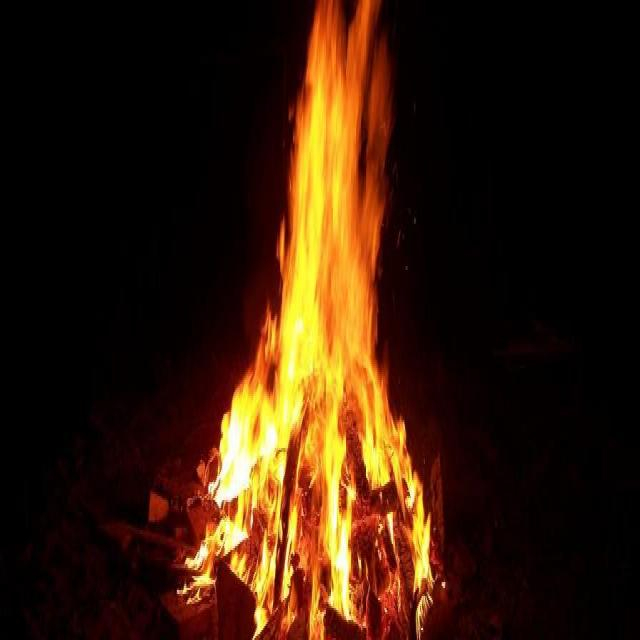fire: (160, 2, 447, 634)
